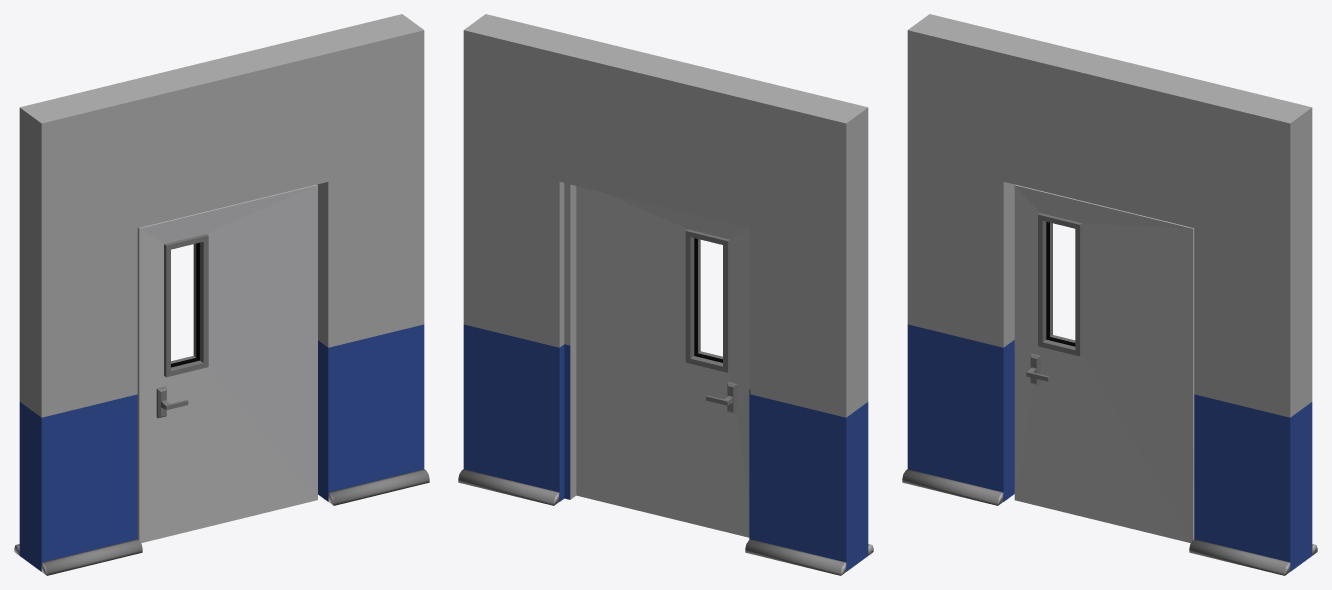
The model's file is Wall Door.fbx.
3 views of the same model, side by side, from view 1: azimuth 30°, elevation 25°; view 2: azimuth 150°, elevation 25°; view 3: azimuth 330°, elevation 25° (orthographic).
Visible parts, largest first — view 1: Wall Door, Door; view 2: Wall Door, Door; view 3: Wall Door, Door.
Boxes of the visible parts, left/top/right/bottom form: Wall Door: left=14, top=14, right=429, bottom=575; Door: left=137, top=184, right=317, bottom=542; Wall Door: left=458, top=14, right=873, bottom=575; Door: left=576, top=186, right=749, bottom=537; Wall Door: left=902, top=14, right=1317, bottom=575; Door: left=1014, top=184, right=1194, bottom=542.
Size of the model in its own units: 250 by 280 by 37.15.
3 materials, 2 textured.
